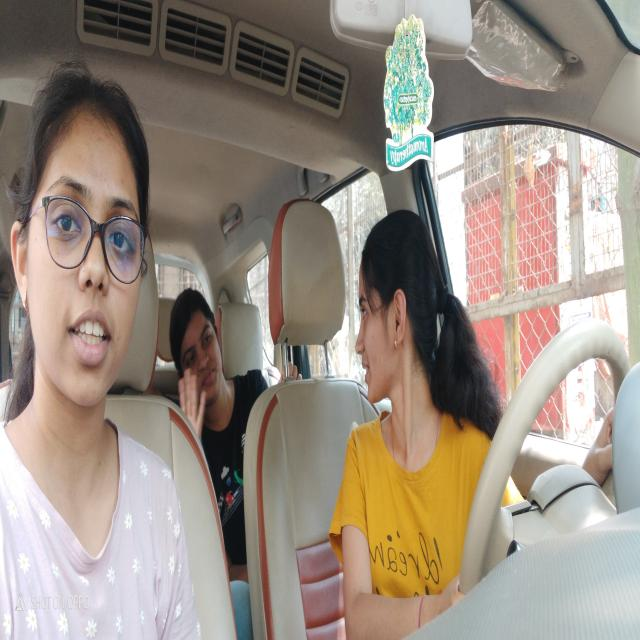LeftRight: (346, 246, 424, 399)
person: (33, 90, 143, 397), (175, 302, 226, 399)
talking: (358, 359, 374, 384)
